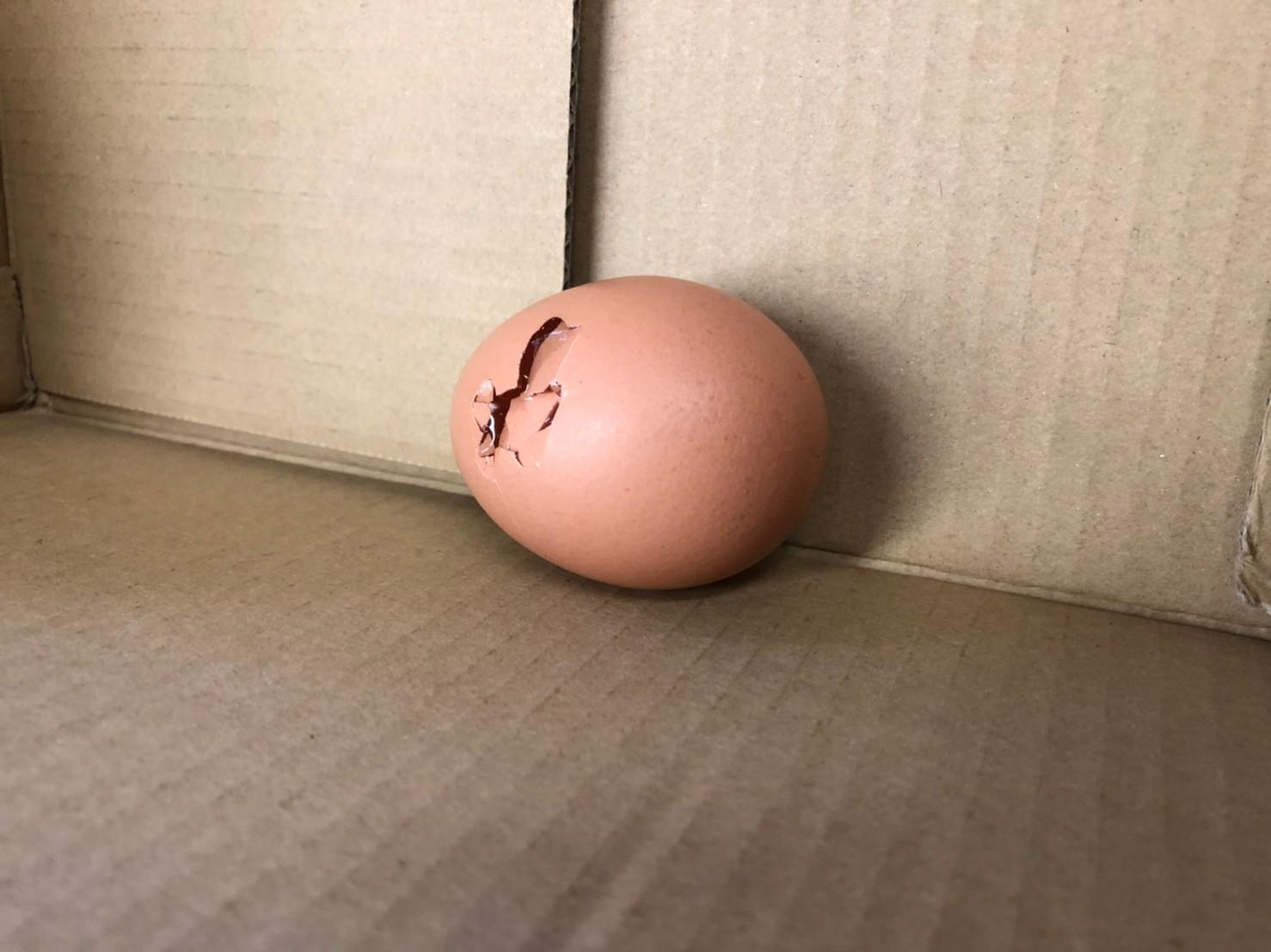egg: (443, 271, 851, 599)
